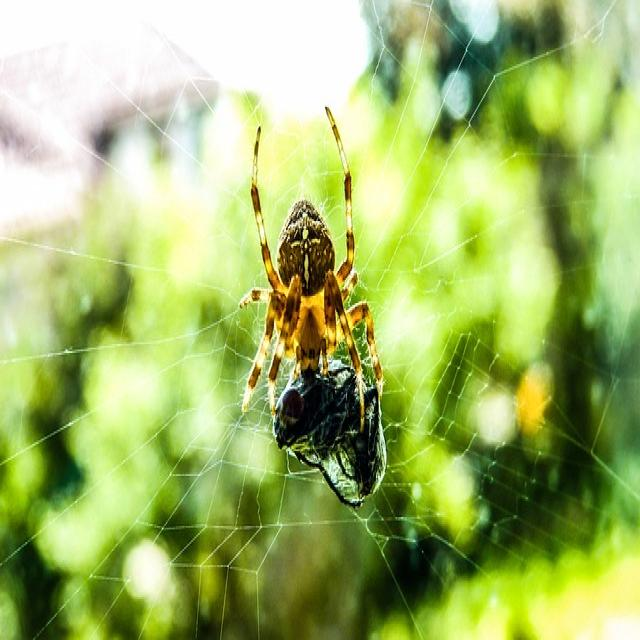spyder: (241, 109, 382, 431)
